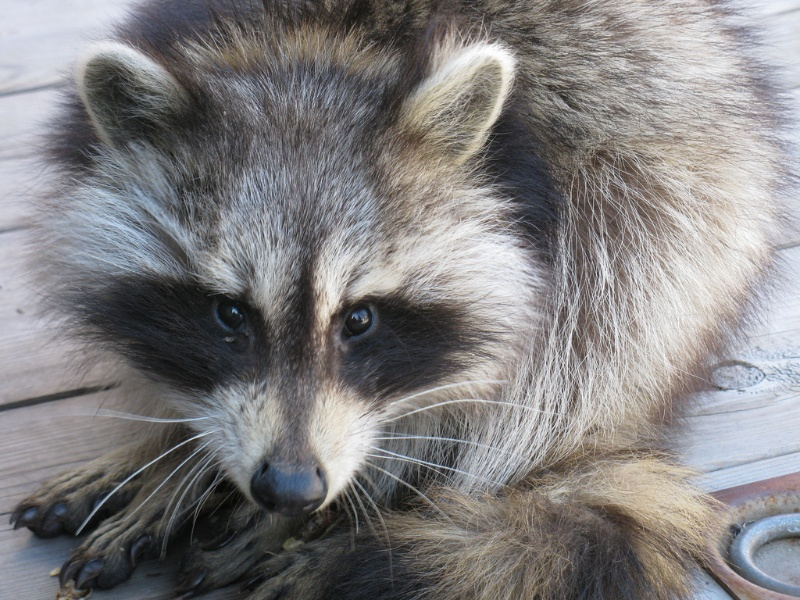raccoon: (22, 1, 780, 587)
